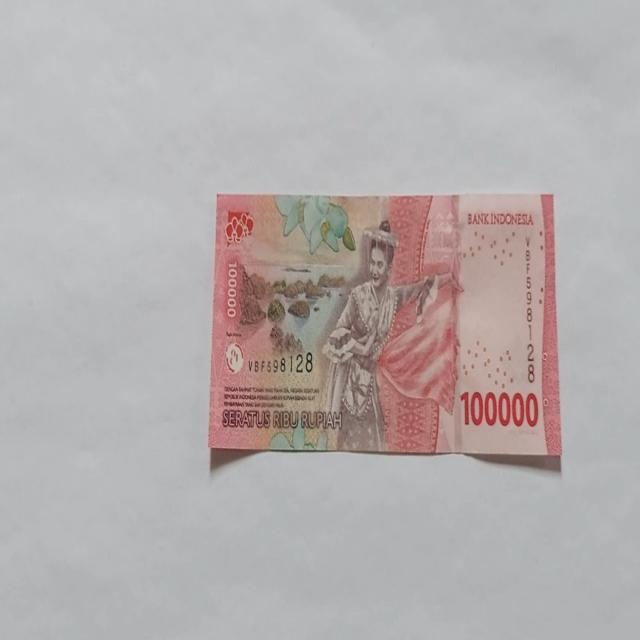seratus ribu rupiah: (208, 191, 562, 462), (319, 218, 443, 452)
